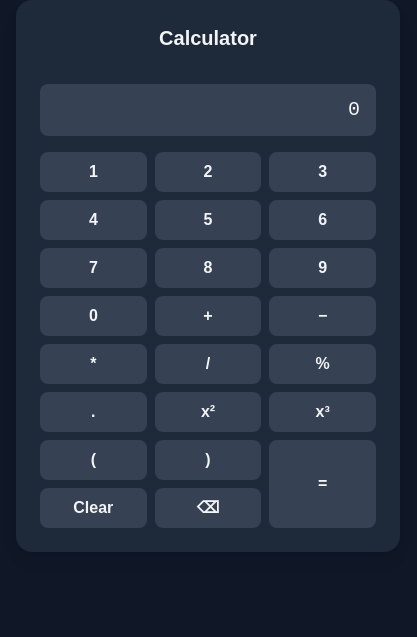
Test: Calculator › subtracts two numbers
Click the button "1" at [93, 172], box x1=40 y1=152 x2=147 y2=192
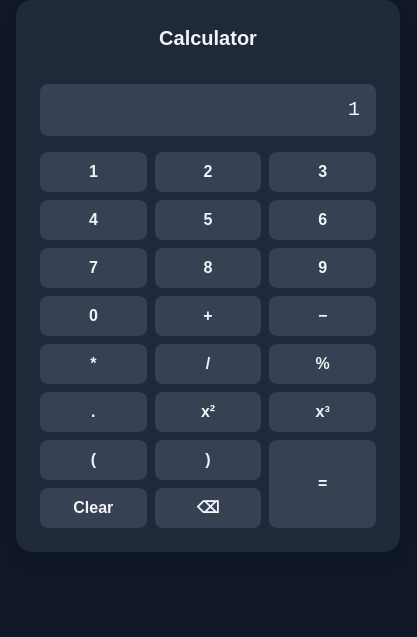
Click the button "2" at [208, 172], box x1=155 y1=152 x2=261 y2=192
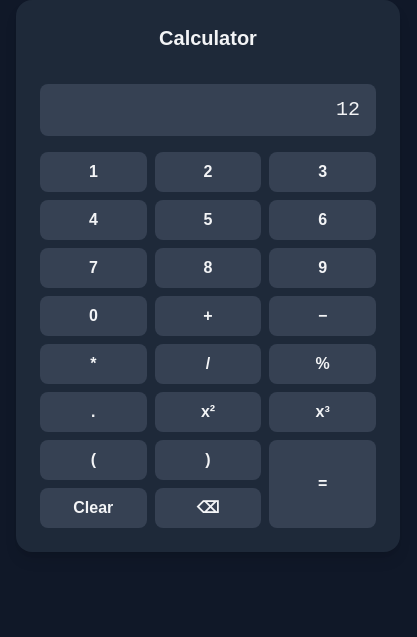
Click the button "−" at [323, 316], box x1=269 y1=296 x2=376 y2=336
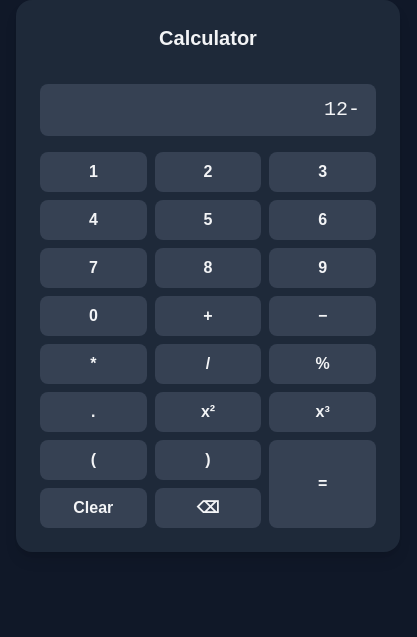
Click the button "3" at [323, 172], box x1=269 y1=152 x2=376 y2=192
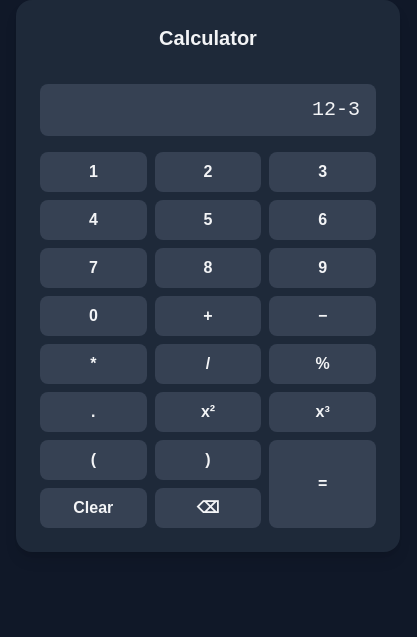
Click the button with test id "=" at [323, 484], box x1=269 y1=440 x2=376 y2=528
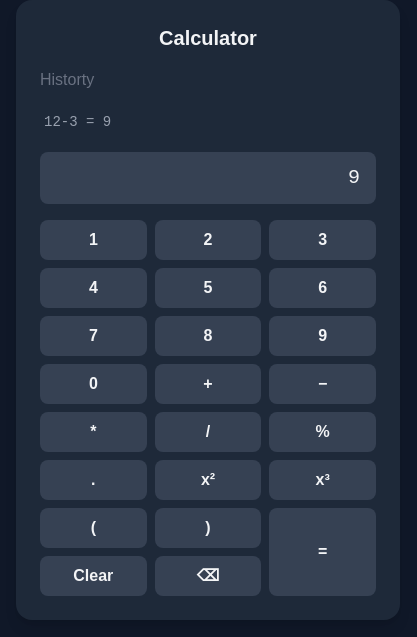
expect the text with test id "display" reads "9": met, box x1=348 y1=166 x2=360 y2=189
